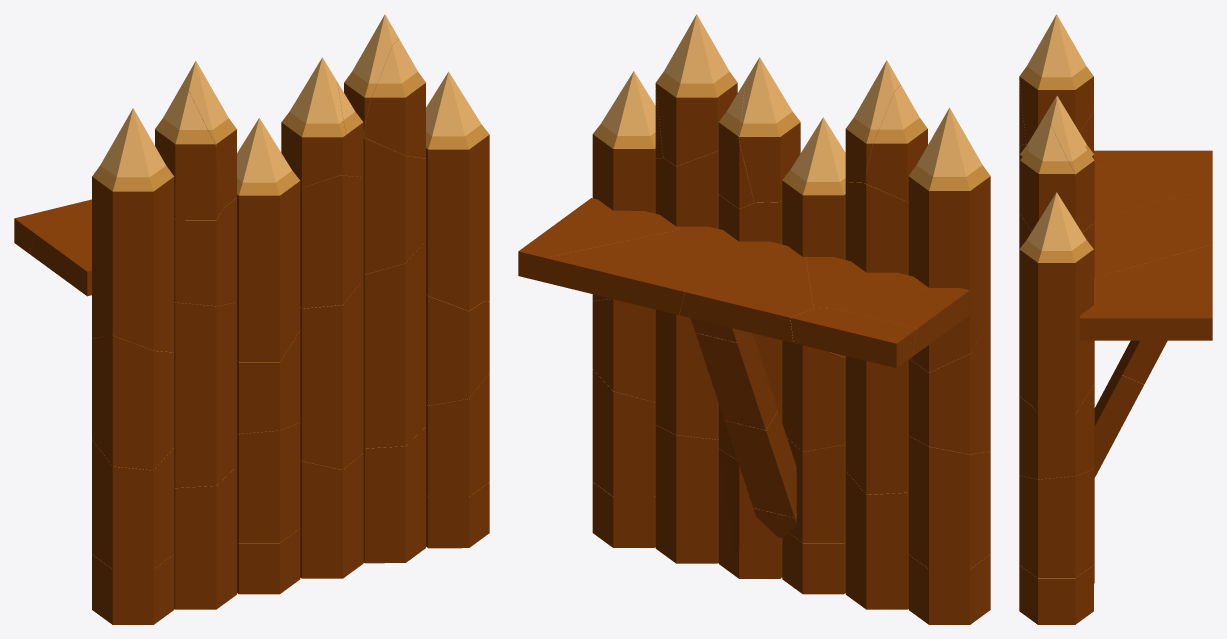
File: Wall.fbx
3 views of the same model, side by side, from view 1: azimuth 30°, elevation 25°; view 2: azimuth 150°, elevation 25°; view 3: azimuth 270°, elevation 25° (orthographic). The views are drawn at different scales.
Parts seen in each view (by area): view 1: Brew5Des4, Brew2Des4, Brew4Des4, Brew1Des3, Brew1Des2, Brew1Des4, Brew6Des2, Brew4Des3, Brew2Des5, Brew3Des2, Brew5Des5, Brew4Des5 (+20 smaller); view 2: Plane2Des5, Brew1Des4, Brew2Des4, Brew5Des5, Brew5Des2, Brew1Des1, Brew1Des3, Plane2Des3, Brew2Des5, Brew1Des2, Brew6Des4, Brew5Des4 (+27 smaller); view 3: Brew6Des2, Brew6Des4, Plane2Des5, Plane2Des2, Brew6Des1, Brew2Des2, Brew6Des3, Brew5Des1, Brew6Des5, Plane2Des3, Plane2Des4, Plane1Des1 (+8 smaller).
Boxes of the visible parts, x1,y1,x2,y2 form: Brew5Des4: (363,241,425,448); Brew2Des4: (174,302,236,487); Brew4Des4: (300,280,363,469); Brew1Des3: (92,335,174,470); Brew1Des2: (92,206,174,352); Brew1Des4: (92,440,174,569); Brew6Des2: (426,175,489,310); Brew4Des3: (300,175,363,308); Brew2Des5: (174,466,236,609); Brew3Des2: (237,227,300,362); Brew5Des5: (363,427,425,563); Brew4Des5: (300,453,363,578); Plane2Des5: (675,226,813,342); Brew1Des4: (908,436,990,569); Brew2Des4: (845,356,908,494); Brew5Des5: (655,425,718,563); Brew5Des2: (655,14,737,166); Brew1Des1: (908,107,990,240); Brew1Des3: (908,320,990,454); Plane2Des3: (545,230,684,314); Brew2Des5: (845,471,908,609); Brew1Des2: (908,221,990,372); Brew6Des4: (592,369,655,496); Brew5Des4: (655,309,718,439); Brew6Des2: (1019,274,1093,414); Brew6Des4: (1019,469,1093,578); Plane2Des5: (1094,194,1212,275); Plane2Des2: (1080,275,1212,340); Brew6Des1: (1019,192,1093,303); Brew2Des2: (1019,14,1093,144); Brew6Des3: (1019,385,1093,479); Brew5Des1: (1020,122,1082,232); Brew6Des5: (1019,565,1093,624); Plane2Des3: (1103,244,1212,306); Plane2Des4: (1094,165,1185,219); Plane1Des1: (1094,357,1143,477).
Size of the model in its own units: 490 by 659 by 238.
